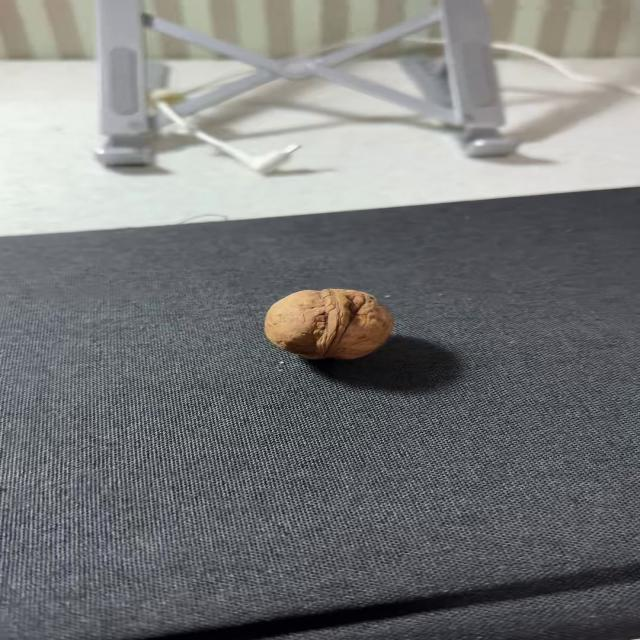nuts-good: (264, 289, 393, 360)
